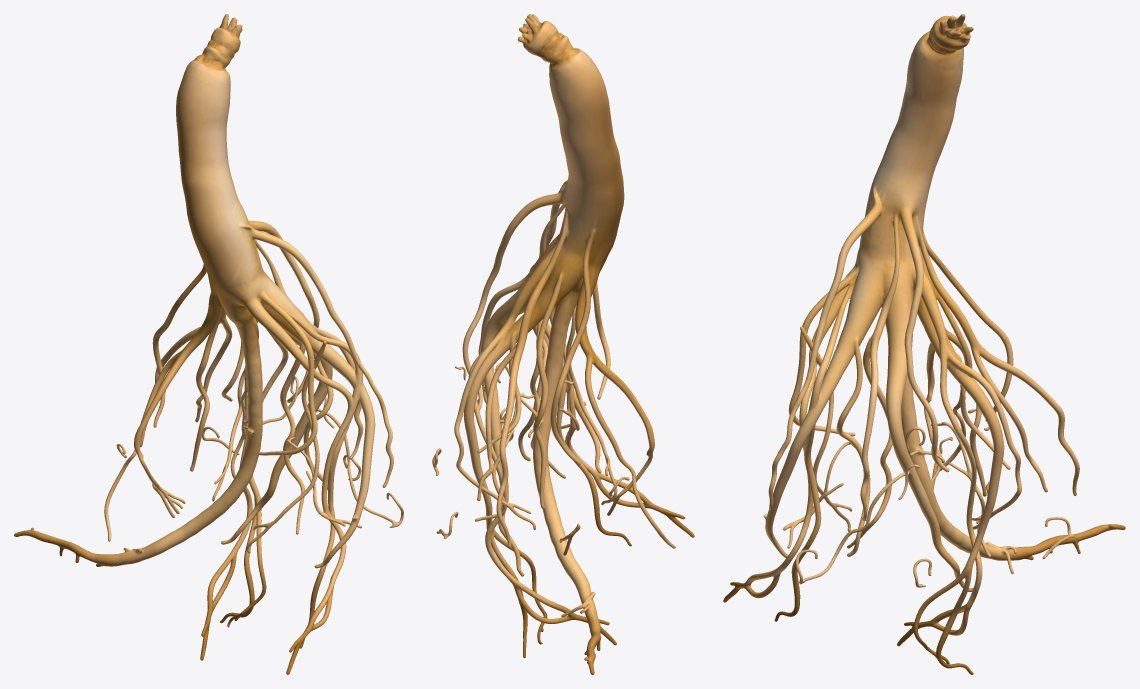
Rendered from ginseng.glb.
3 renders of one model, left to right at view 1: azimuth 30°, elevation 25°; view 2: azimuth 150°, elevation 25°; view 3: azimuth 270°, elevation 25°, orthographic. The views are drawn at different scales.
Visible parts, largest first — view 1: Meshy_AI_Ginseng_root_0325175543_texture; view 2: Meshy_AI_Ginseng_root_0325175543_texture; view 3: Meshy_AI_Ginseng_root_0325175543_texture.
Part boxes in pixels (left/top/right/bottom): Meshy_AI_Ginseng_root_0325175543_texture: left=14, top=14, right=403, bottom=674; Meshy_AI_Ginseng_root_0325175543_texture: left=432, top=14, right=694, bottom=674; Meshy_AI_Ginseng_root_0325175543_texture: left=723, top=14, right=1125, bottom=674.
Size of the model in its own units: 0.8163 by 1.9 by 1.05.
1 material, 1 textured.
